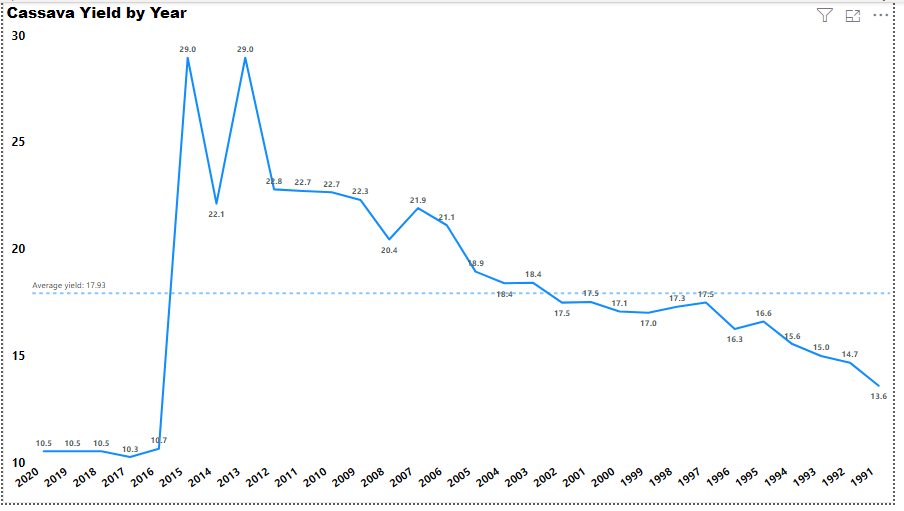

This screenshot's page, from the dashboard's own definition file:
{"tool":"powerbi","page":{"name":"Cassava","canvas":[1280,720],"ordinal":15},"visuals":[{"type":"lineChart","title":"Cassava Yield by Year","fields":{"Category":["CASSAVA.Year"],"Y":["Sum(CASSAVA.YIELD)"]},"box":[0,0,1280.5,720],"z":0}]}

Visuals, with their boxes on the page's 1280x720 design canvas (x1, y1, x2, y2). These are canvas units, not pixel positions in the 904x511 screenshot, which may show the page scaled, cropped or inside an application window:
"Cassava Yield by Year" lineChart: region(0, 0, 1280, 720)
